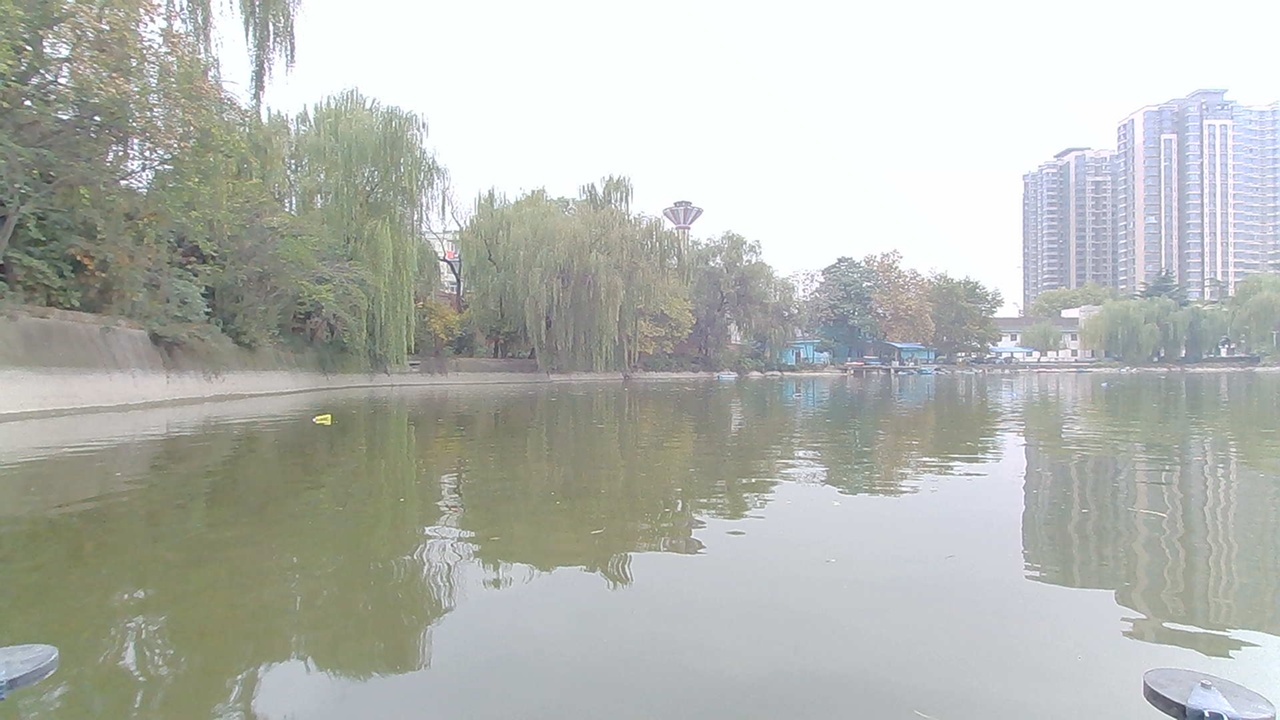bottle: (309, 409, 343, 432), (782, 387, 811, 402)
